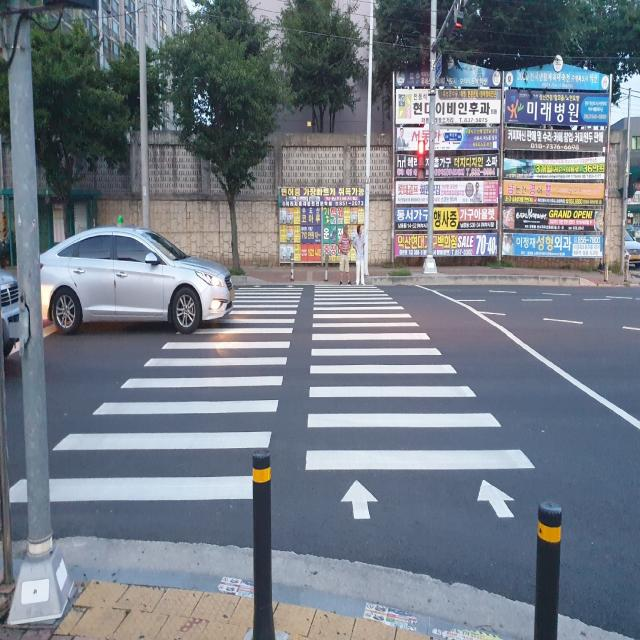횡단보도: (4, 279, 538, 524)
